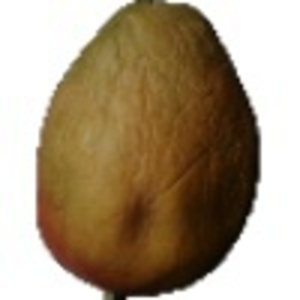mamão: (29, 4, 263, 293)
